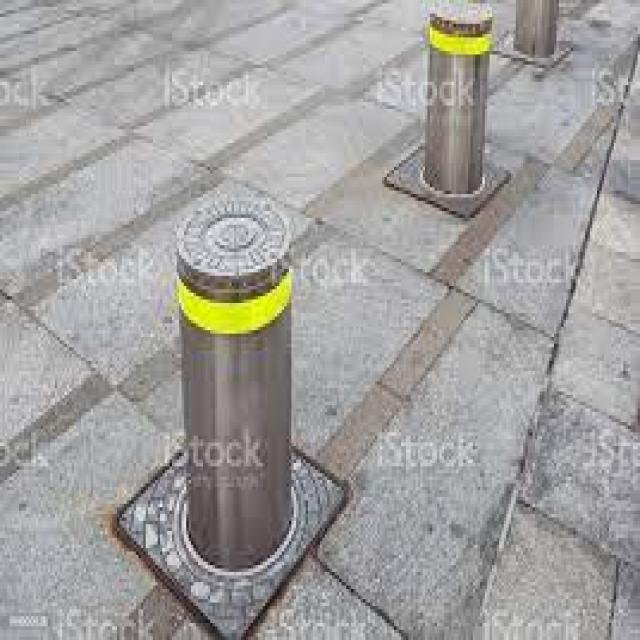bollard: (168, 194, 308, 578), (398, 1, 500, 212), (509, 0, 575, 74)
